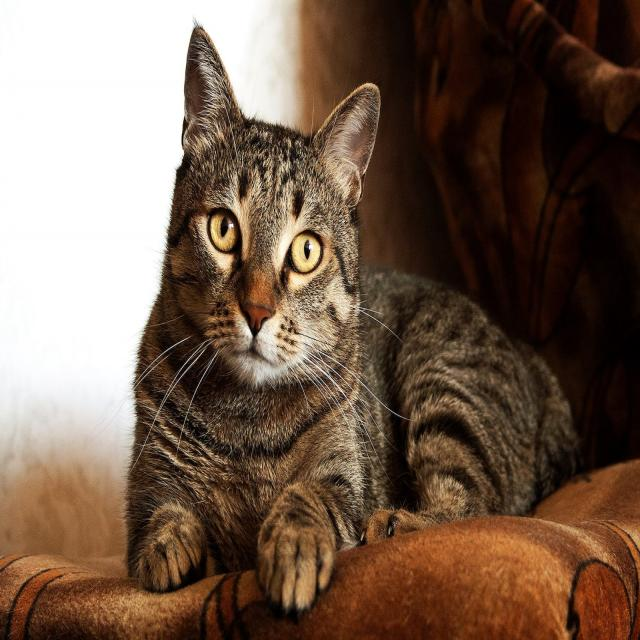cat: (124, 19, 596, 622)
